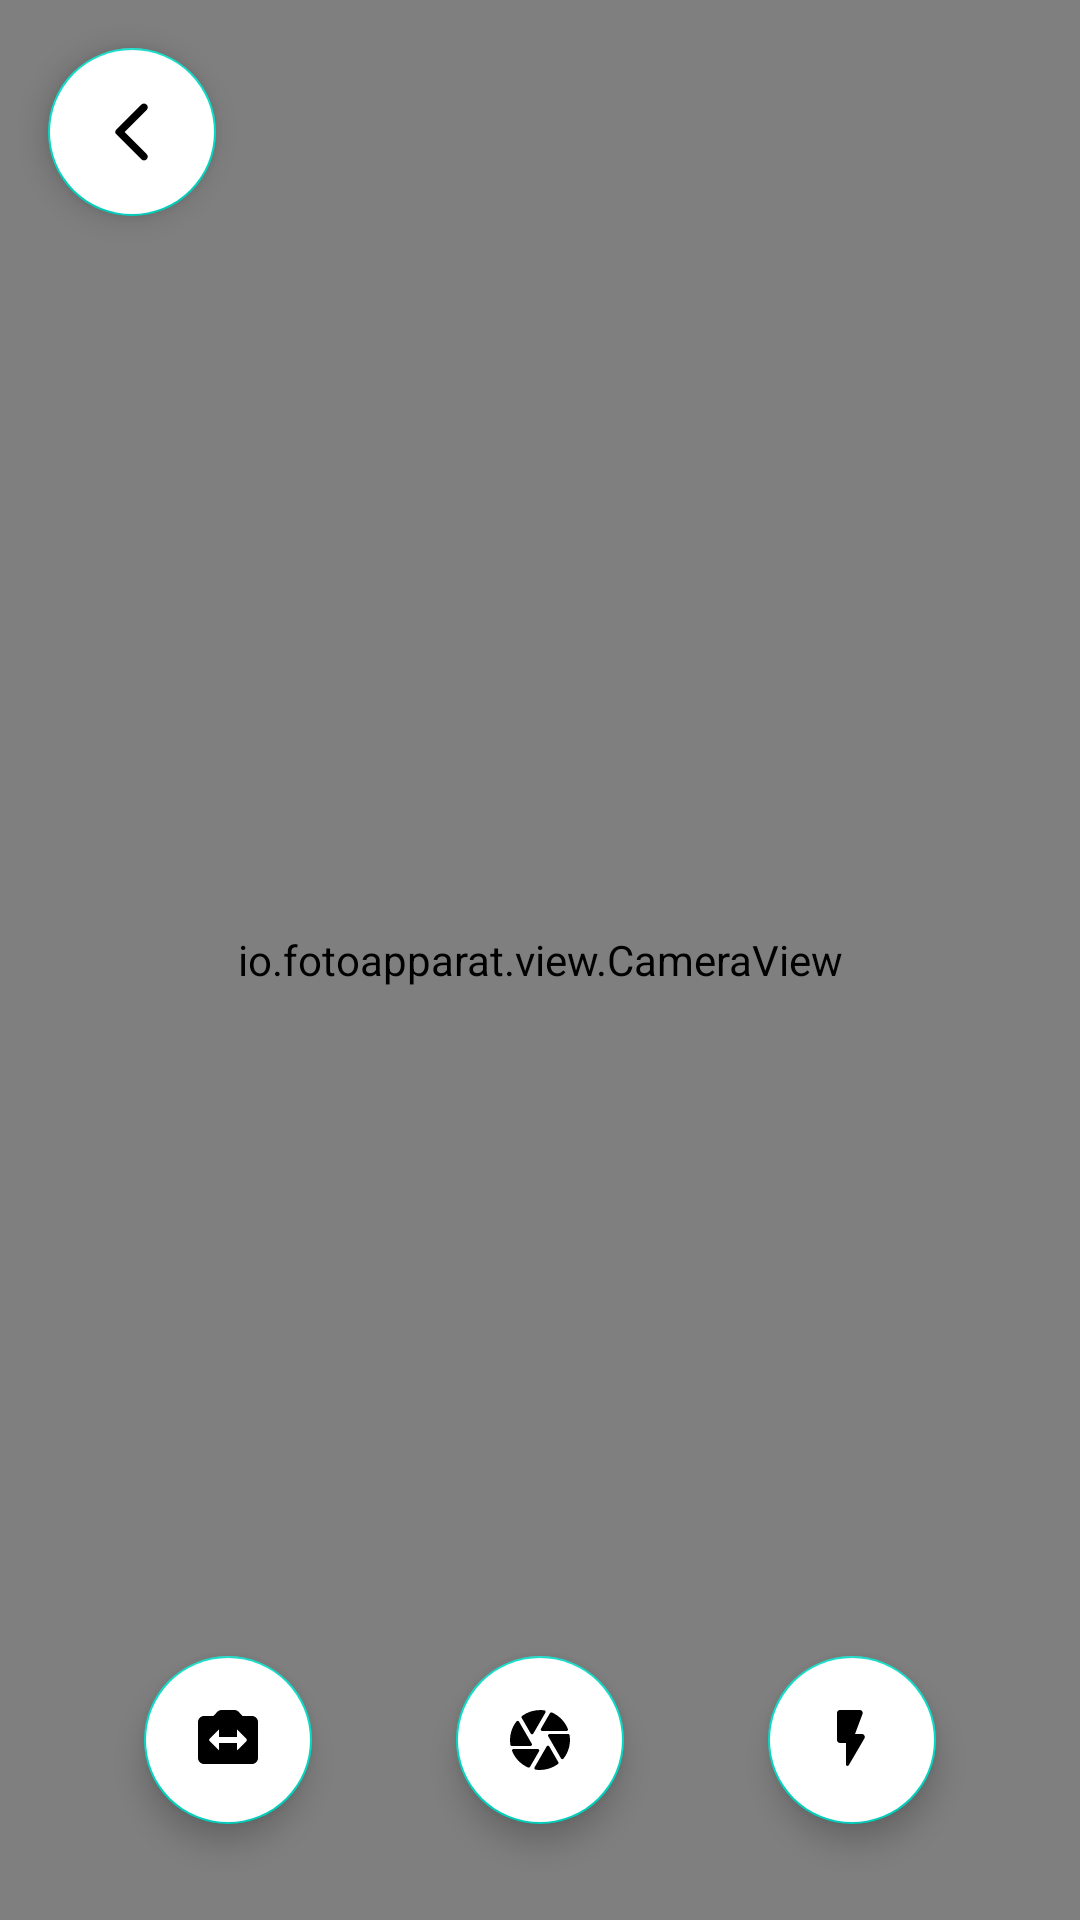

Icons on this 1080 x 1920 Android screen, each with its box as (x1, y1, x2, y2):
arrow back: (48, 48, 216, 216)
flash on: (768, 1656, 936, 1824)
switch camera: (144, 1656, 312, 1824)
